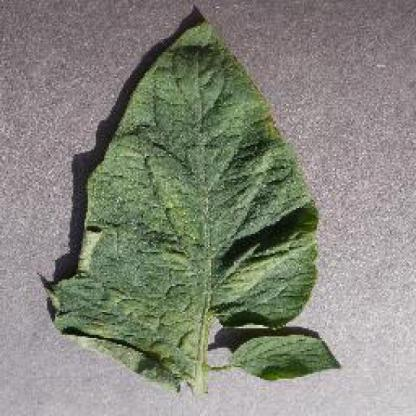Tomato_Spider_Mites: (40, 20, 339, 382)
